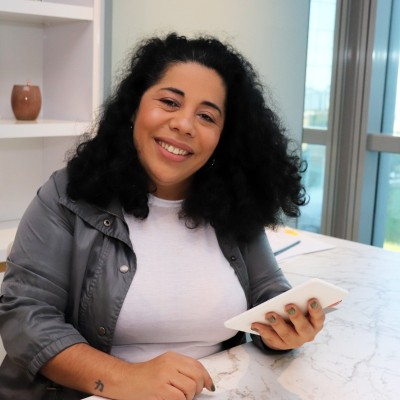no-gloves: (137, 349, 226, 400), (249, 296, 326, 351)
